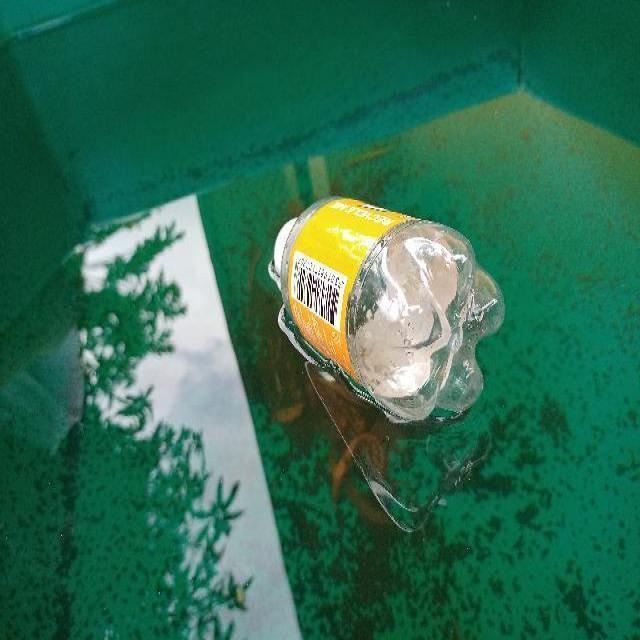Bottle: (262, 188, 518, 432)
